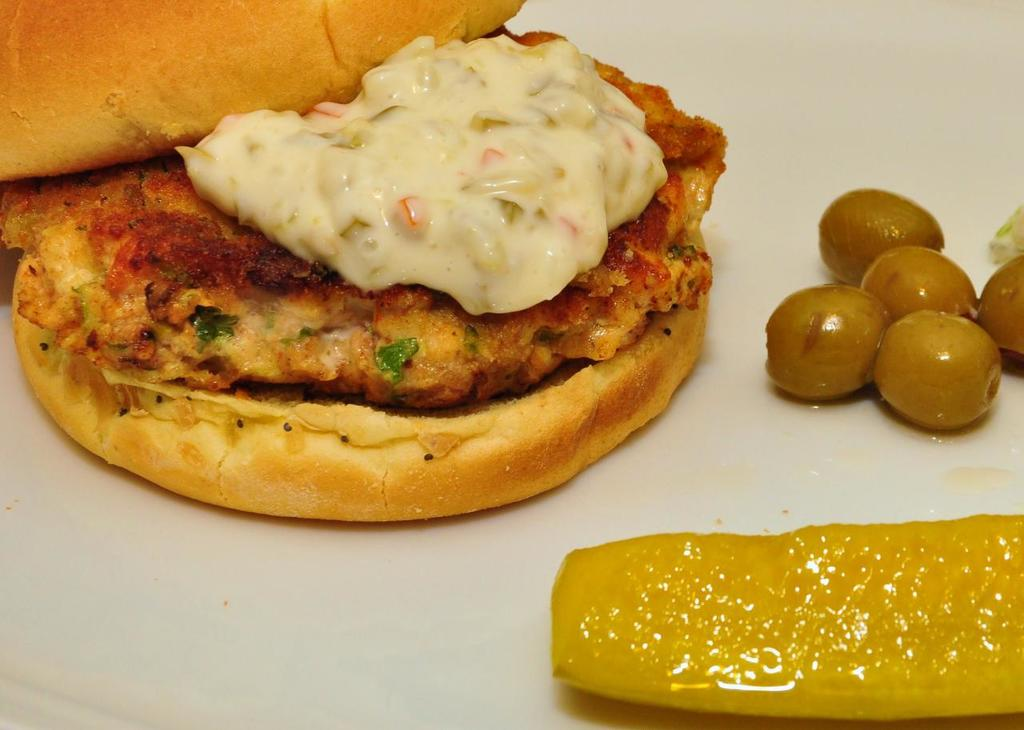Hamburger: (0, 0, 728, 526)
